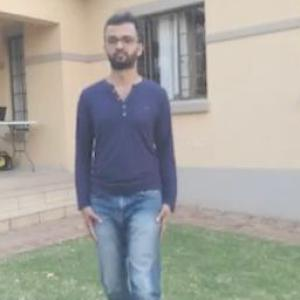follow: (75, 9, 175, 296)
